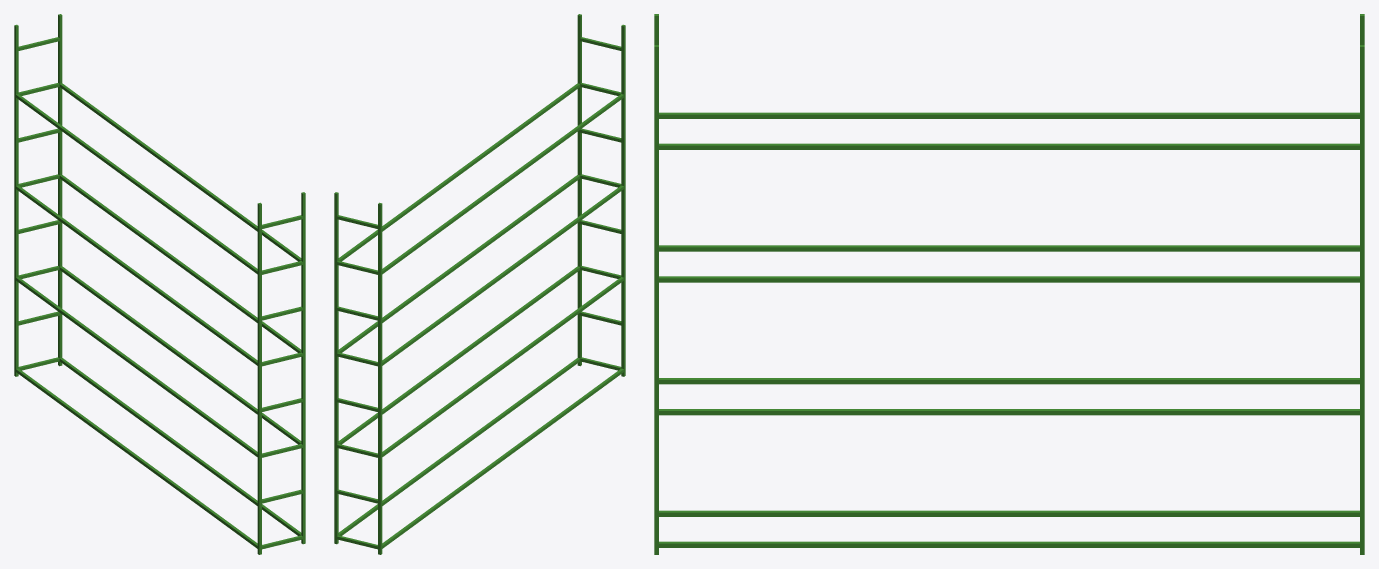
The model's file is reol størst.fbx.
The picture shows the model from 3 angles, left to right: view 1: azimuth 30°, elevation 25°; view 2: azimuth 150°, elevation 25°; view 3: azimuth 270°, elevation 25°; orthographic projection. The views are drawn at different scales.
Parts seen in each view (by area): view 1: columns_small (×13); view 2: columns_small (×13); view 3: columns_small (×6).
Part boxes in pixels (bbox=[...]): columns_small (×13): bbox=[14, 14, 305, 554]; columns_small (×13): bbox=[334, 14, 625, 554]; columns_small (×6): bbox=[654, 14, 1364, 554].
Bounding box in the file's own units: 10 × 72 × 91.2.
